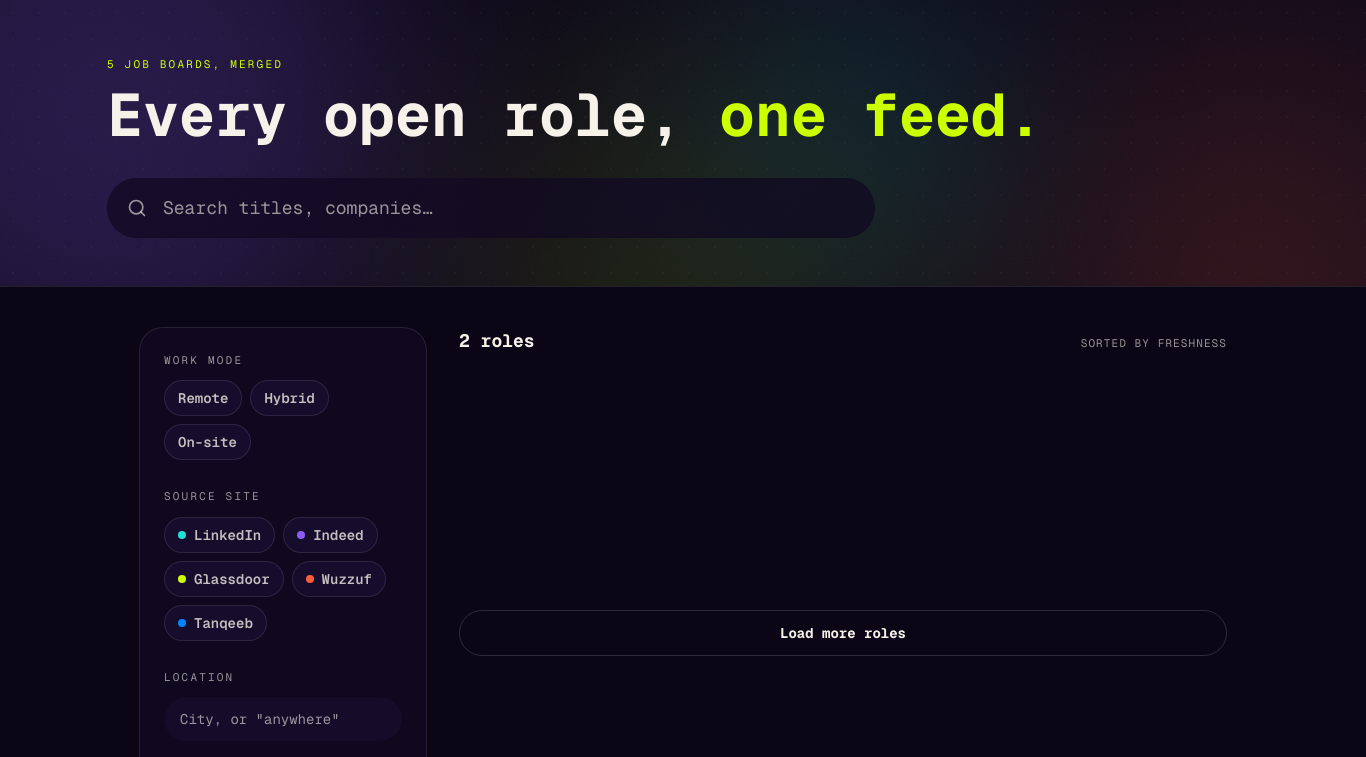
Test: JobsClient › load more appends new jobs without re-adding ones already shown
Click the button "Load more roles" at (843, 633), box [459,610,1227,656]
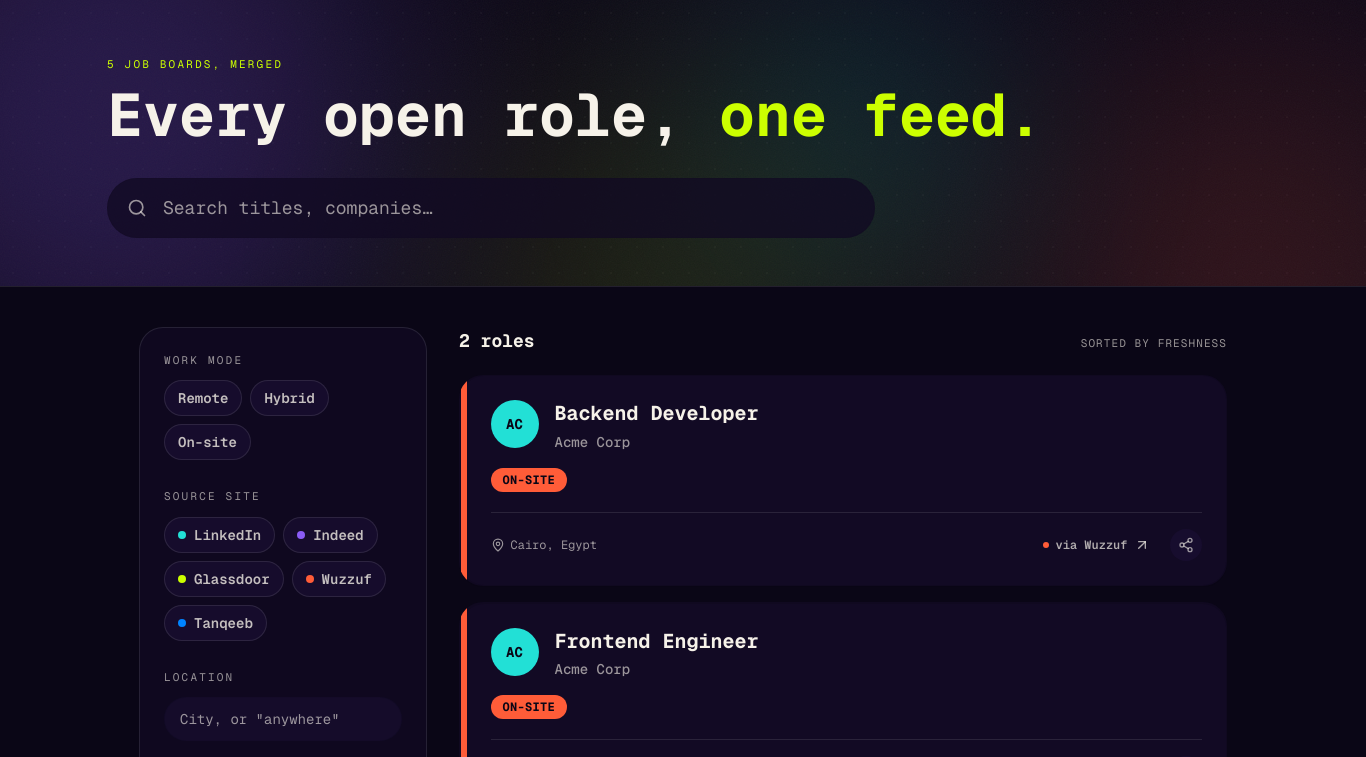
Expected: the number of links "Backend Developer" is 1, [554,400,758,426]
Expected: the link "Frontend Engineer" is shown, [554,628,758,654]
